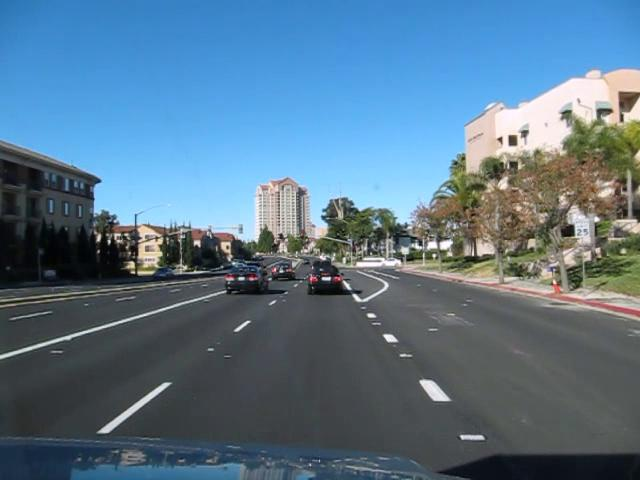speedLimit25: (573, 217, 590, 238)
